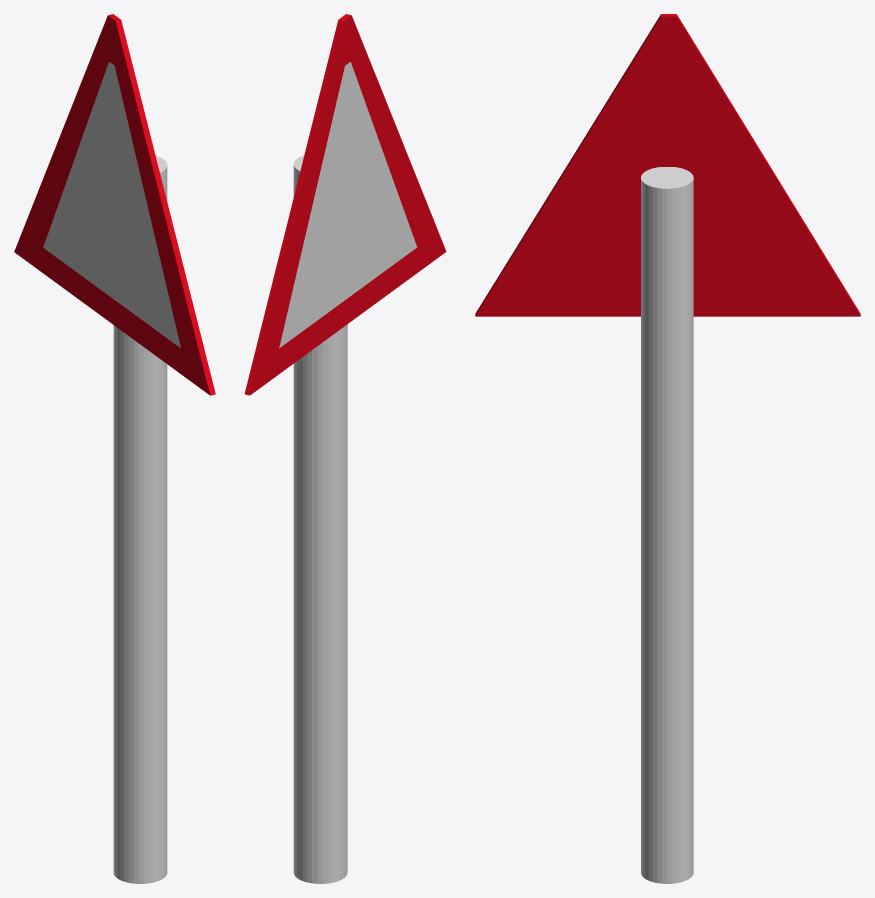
File: Road Sign 4.fbx
The picture shows the model from 3 angles, left to right: view 1: azimuth 30°, elevation 25°; view 2: azimuth 150°, elevation 25°; view 3: azimuth 270°, elevation 25°; orthographic projection.
Parts seen in each view (by area): view 1: Cube.005, Cylinder.002; view 2: Cube.005, Cylinder.002; view 3: Cube.005, Cylinder.002.
Part boxes in pixels (x1,y1,x2,y2): Cube.005: (14, 14, 215, 395); Cylinder.002: (113, 156, 167, 883); Cube.005: (244, 14, 446, 395); Cylinder.002: (293, 155, 347, 883); Cube.005: (475, 14, 860, 316); Cylinder.002: (641, 167, 693, 883).
Size of the model in its own units: 26.46 by 425 by 176.
